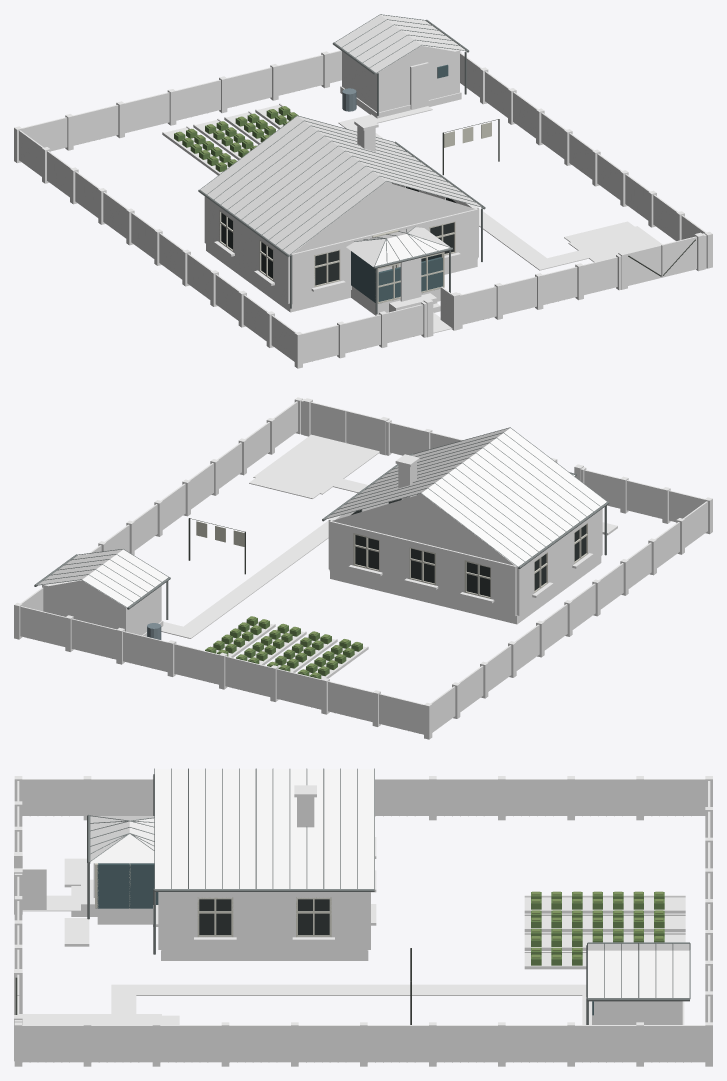
3 renders of one model, top to bottom at view 1: azimuth 30°, elevation 25°; view 2: azimuth 150°, elevation 25°; view 3: azimuth 270°, elevation 25°, orthographic. The views are drawn at different scales.
Parts seen in each view (by area): view 1: ParcelGeometry.015, SummerPlanting.013; view 2: ParcelGeometry.015, SummerPlanting.013; view 3: ParcelGeometry.015, SummerPlanting.013.
Boxes of the visible parts, left/top/right/bottom form: ParcelGeometry.015: left=14, top=14, right=712, bottom=368; SummerPlanting.013: left=174, top=106, right=491, bottom=171; ParcelGeometry.015: left=14, top=397, right=712, bottom=739; SummerPlanting.013: left=196, top=521, right=362, bottom=678; ParcelGeometry.015: left=14, top=768, right=712, bottom=1066; SummerPlanting.013: left=531, top=891, right=664, bottom=965.
Bounding box in the file's own units: 20.13 × 5.26 × 23.85.
